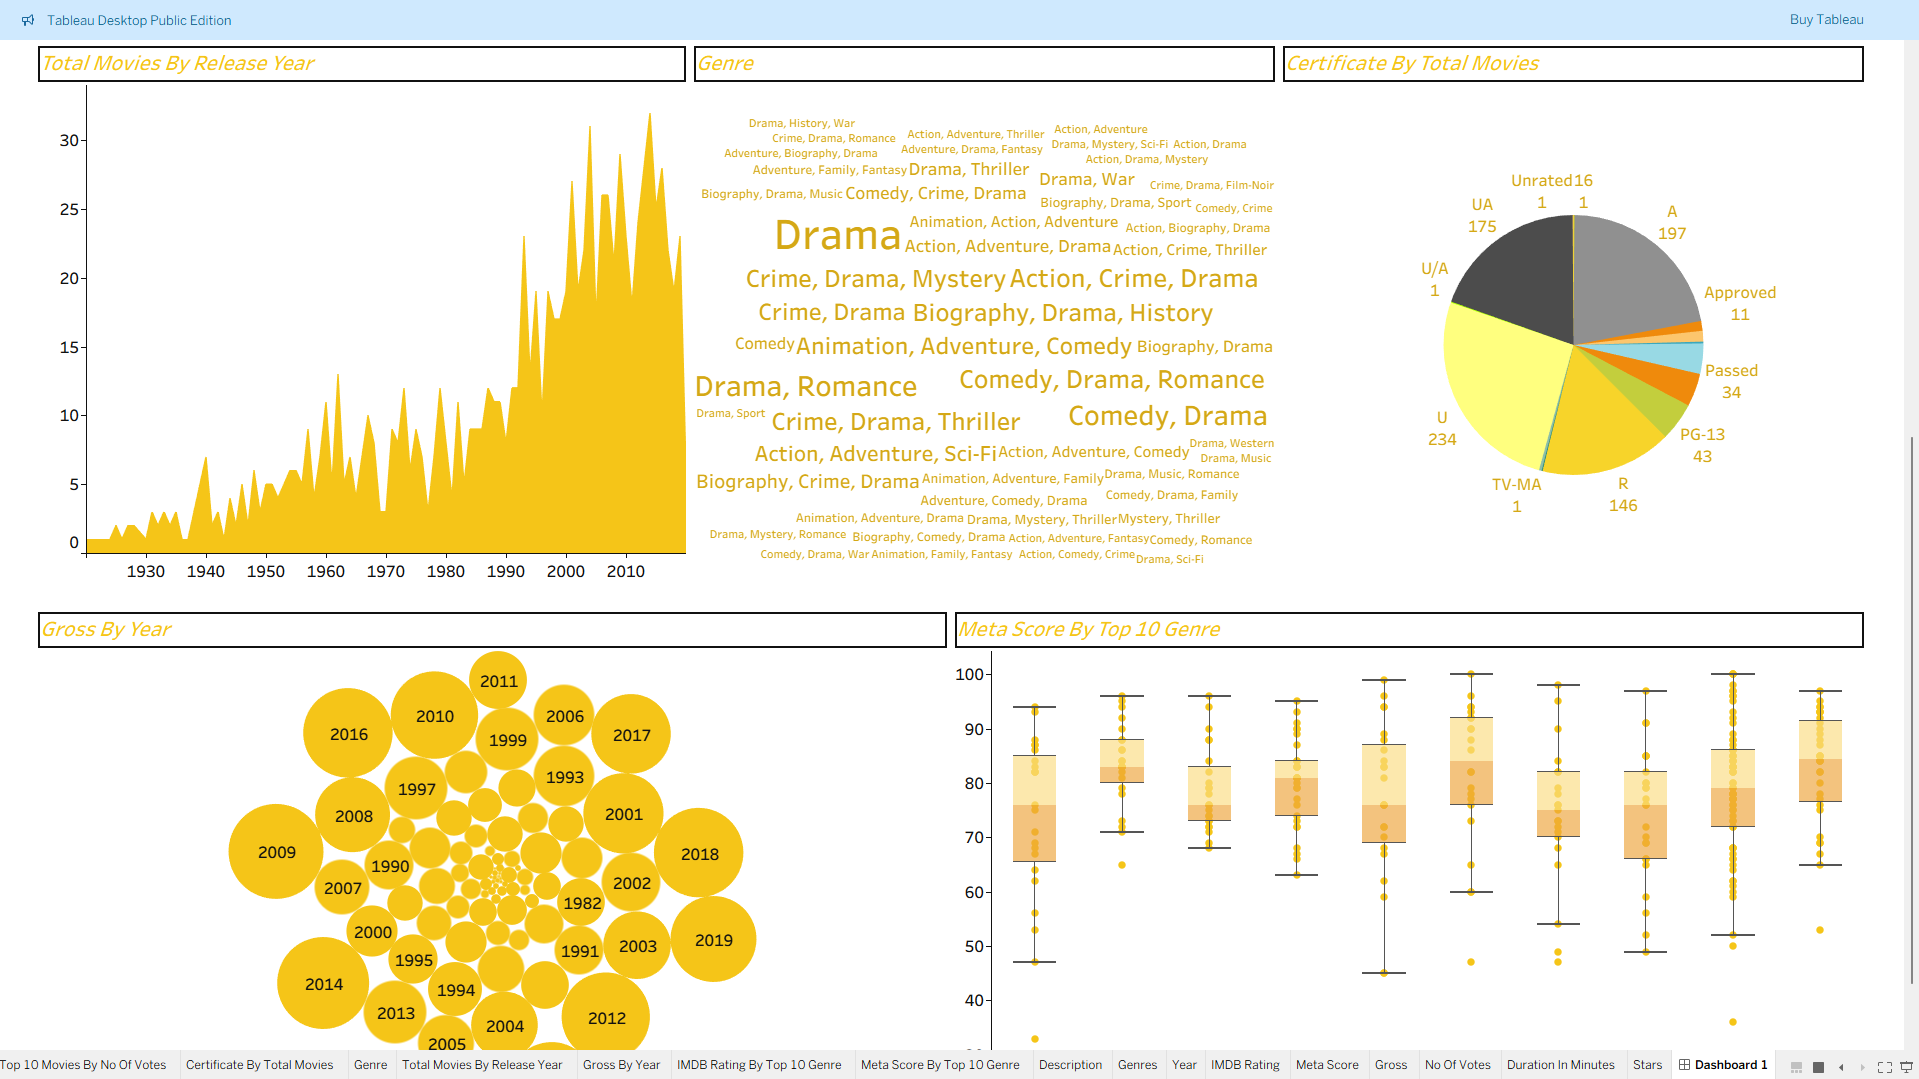

Layout of this report page (visuals, bound fields, positions):
{"tool":"tableau","page":{"name":"Dashboard 1","canvas":[1850,1800],"ordinal":0},"visuals":[{"type":"worksheet","title":"No Of Votes","mark":"Text","box":[8,8,229.2,104]},{"type":"worksheet","title":"Gross ","mark":"Text","box":[237.2,8,260.8,104]},{"type":"worksheet","title":"IMDB Rating","mark":"Text","box":[498,8,242,104]},{"type":"filter","title":"Description","param":"[federated.01yjoc115v95gh0ziov50025qm2x].[none:Series_Title:nk]","box":[740,8,209.7,104]},{"type":"worksheet","title":"Meta Score","mark":"Text","box":[949.7,8,209.7,104]},{"type":"worksheet","title":"Stars","mark":"Text","box":[1159.5,8,243.2,231]},{"type":"worksheet","title":"Description","mark":"Text","box":[1402.7,8,439.3,231]},{"type":"worksheet","title":"Duration In Minutes","mark":"Text","box":[8,112,229.2,127]},{"type":"worksheet","title":"Year","mark":"Text","box":[237.2,112,157.8,127]},{"type":"worksheet","title":"Genres","mark":"Text","box":[395,112,269,127]},{"type":"image","param":"Image/IMDB_Logo_2016.svg.png","box":[664,112,495.4,127]},{"type":"worksheet","title":"Top 10 Movies By No Of Votes","mark":"Automatic","rows":["Series_Title"],"cols":["No_of_Votes"],"box":[8,239,917,461.6]},{"type":"worksheet","title":"IMDB Rating By Top 10 Genre","mark":"Circle","rows":["IMDB_Rating"],"cols":["Genre"],"box":[925,239,917,461.6]},{"type":"worksheet","title":"Total Movies By Release Year","mark":"Area","rows":["Series_Title"],"cols":["Released_Year"],"box":[8,700.6,656,566.5]},{"type":"worksheet","title":"Genre","mark":"Text","box":[664,700.6,589,566.5]},{"type":"worksheet","title":"Certificate By Total Movies","mark":"Pie","box":[1253,700.6,589,566.5]},{"type":"worksheet","title":"Gross By Year","mark":"Circle","box":[8,1267.2,917,524.8]},{"type":"worksheet","title":"Meta Score By Top 10 Genre","mark":"Circle","rows":["Meta_score"],"cols":["Genre"],"box":[925,1267.2,917,524.8]}]}

Visuals, with their boxes on the page's 1850x1800 design canvas (x1, y1, x2, y2). These are canvas units, not pixel positions in the 1919x1079 screenshot, which may show the page scaled, cropped or inside an application window:
"No Of Votes" worksheet (Text marks): locate(8, 8, 237, 112)
"Gross " worksheet (Text marks): locate(237, 8, 498, 112)
"IMDB Rating" worksheet (Text marks): locate(498, 8, 740, 112)
"Description" filter: locate(740, 8, 950, 112)
"Meta Score" worksheet (Text marks): locate(950, 8, 1159, 112)
"Stars" worksheet (Text marks): locate(1160, 8, 1403, 239)
"Description" worksheet (Text marks): locate(1403, 8, 1842, 239)
"Duration In Minutes" worksheet (Text marks): locate(8, 112, 237, 239)
"Year" worksheet (Text marks): locate(237, 112, 395, 239)
"Genres" worksheet (Text marks): locate(395, 112, 664, 239)
image: locate(664, 112, 1159, 239)
"Top 10 Movies By No Of Votes" worksheet: locate(8, 239, 925, 701)
"IMDB Rating By Top 10 Genre" worksheet (Circle marks): locate(925, 239, 1842, 701)
"Total Movies By Release Year" worksheet (Area marks): locate(8, 701, 664, 1267)
"Genre" worksheet (Text marks): locate(664, 701, 1253, 1267)
"Certificate By Total Movies" worksheet (Pie marks): locate(1253, 701, 1842, 1267)
"Gross By Year" worksheet (Circle marks): locate(8, 1267, 925, 1792)
"Meta Score By Top 10 Genre" worksheet (Circle marks): locate(925, 1267, 1842, 1792)
